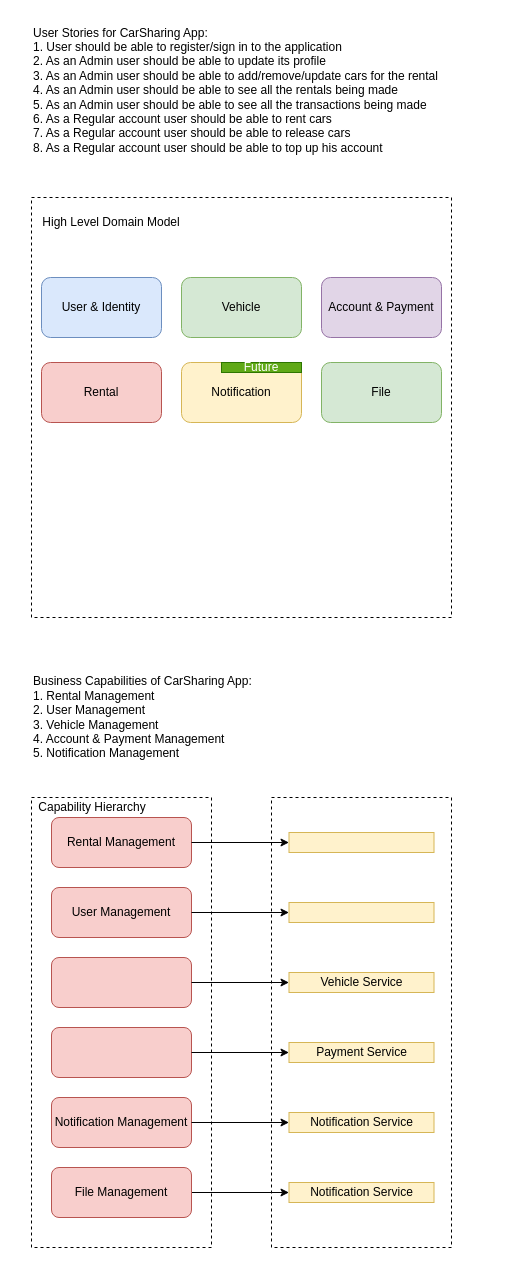
Image size: 508x1265. Some labels were removed from this diagram. The shapes that lost their labels are listed below. From the top down, each one's centre as x and y in pixels, then its label:
At pixel 361 842: "Rental Service".
At pixel 361 912: "User & Identity Service".
At pixel 121 982: "Vehicle Management".
At pixel 121 1052: "Payment Management".
